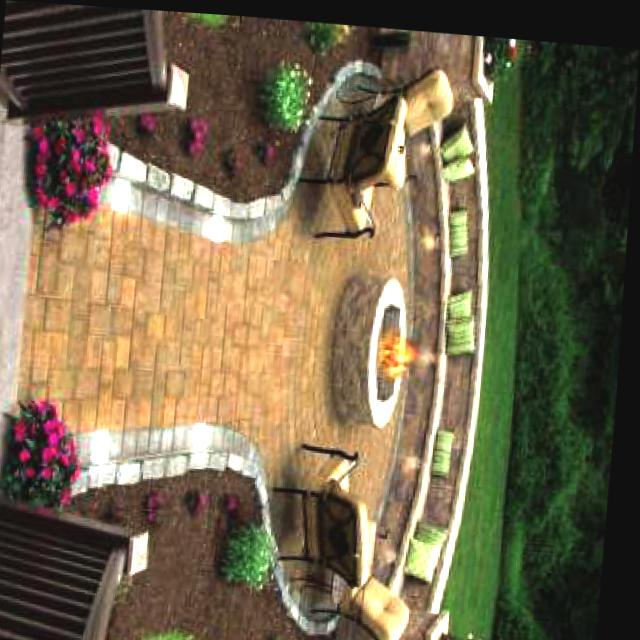Fire: (385, 323, 433, 374)
